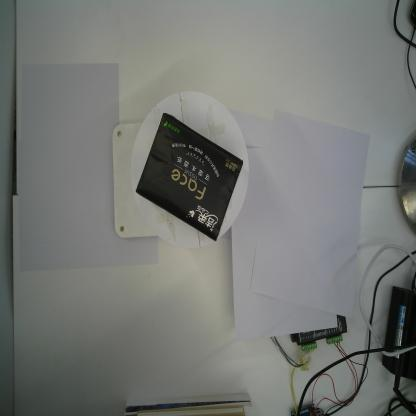Tissue: (135, 112, 244, 243)
